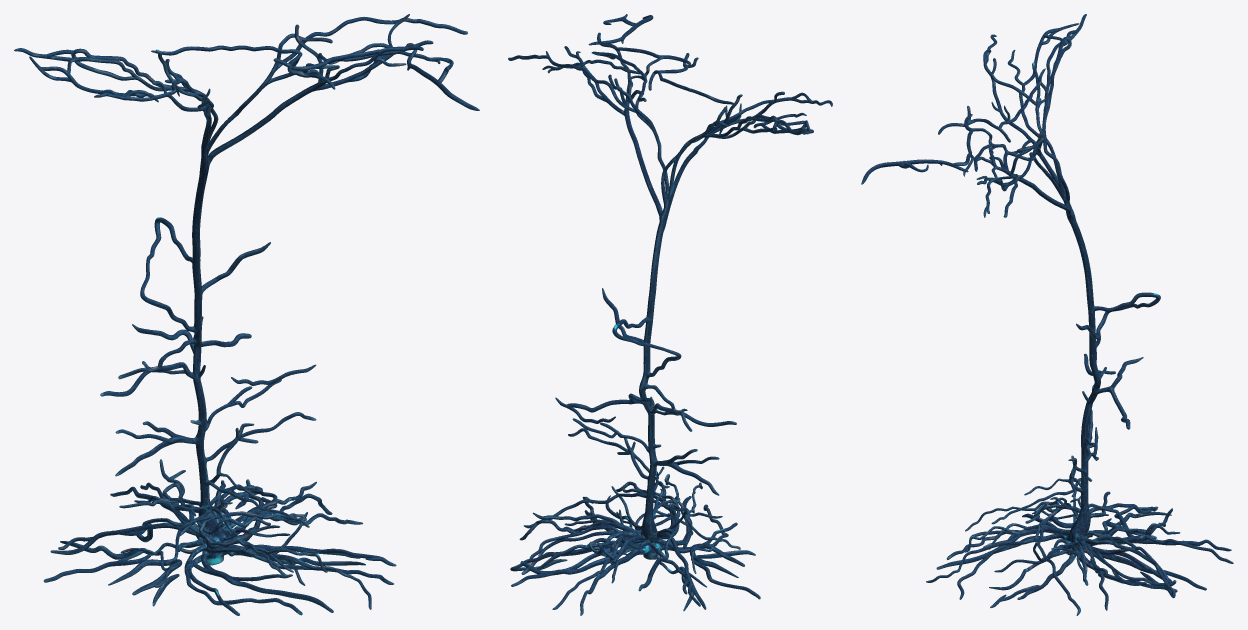
The model's file is vien.glb.
The picture shows the model from 3 angles, left to right: view 1: azimuth 30°, elevation 25°; view 2: azimuth 150°, elevation 25°; view 3: azimuth 270°, elevation 25°; orthographic projection. The views are drawn at different scales.
Bounding box in the file's own units: 1.53 × 2 × 1.46.
1 material, 1 textured.
